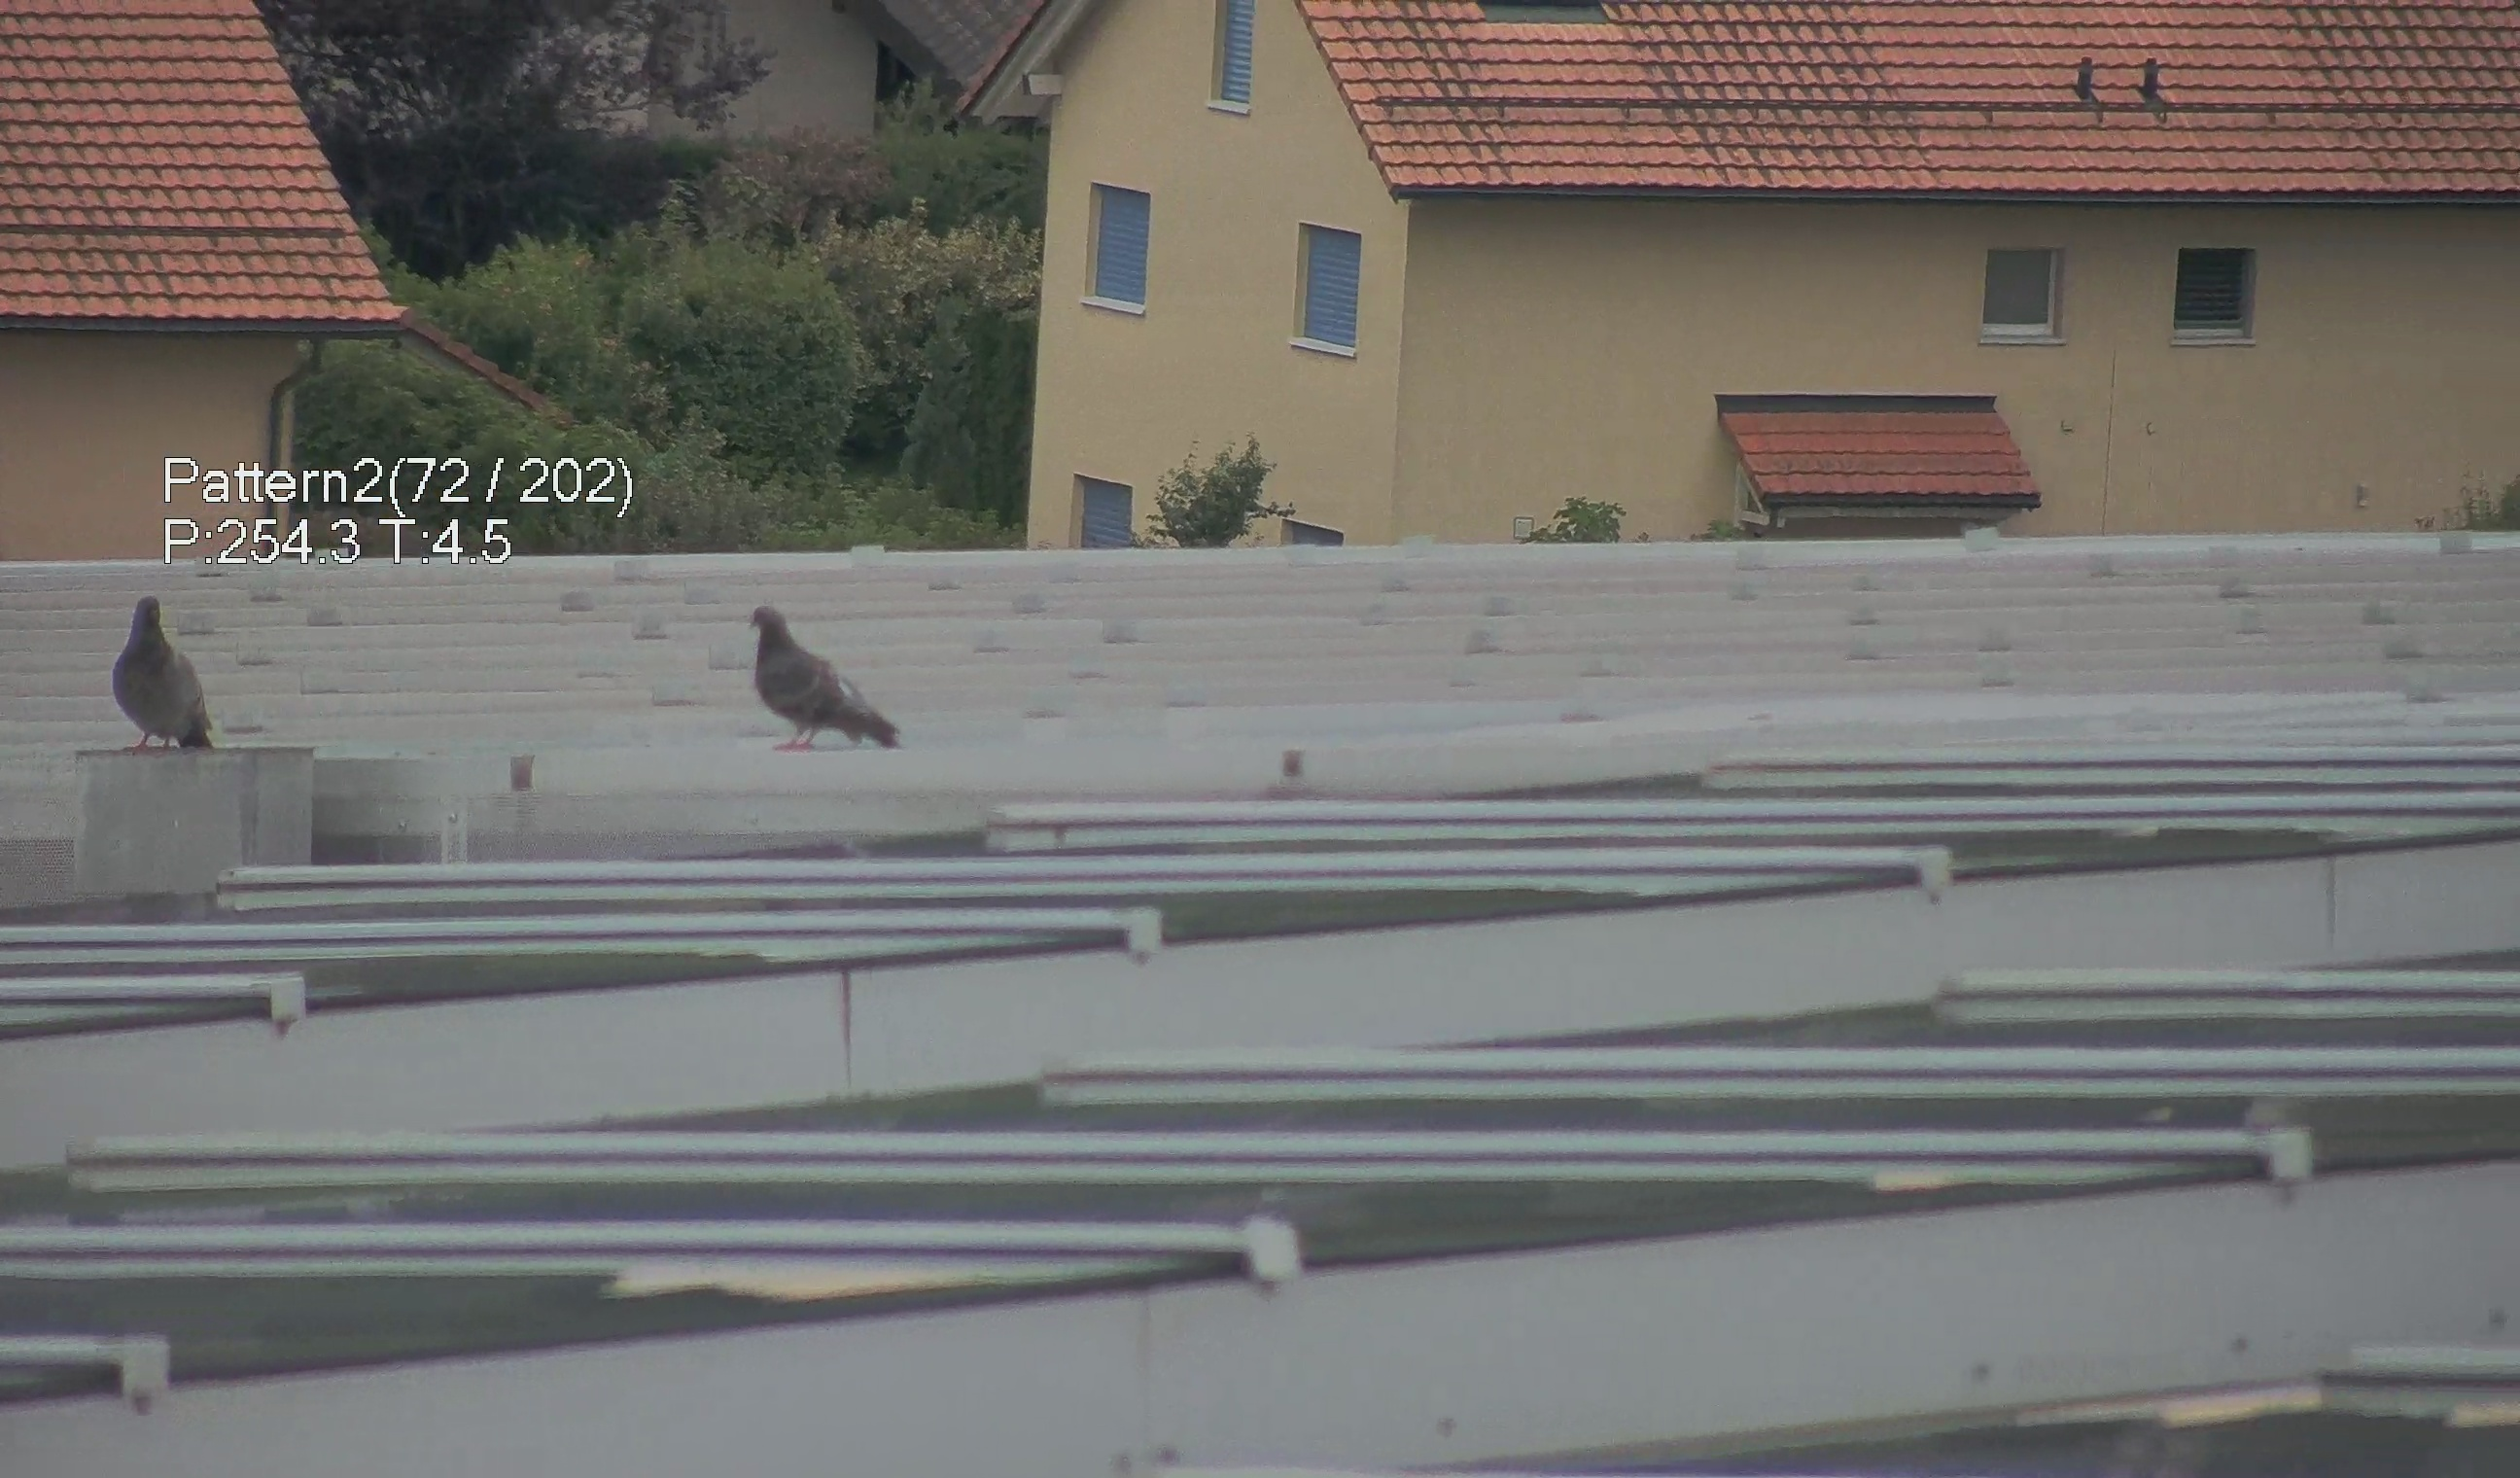Pigeon: (725, 588, 900, 760), (98, 588, 241, 769)
